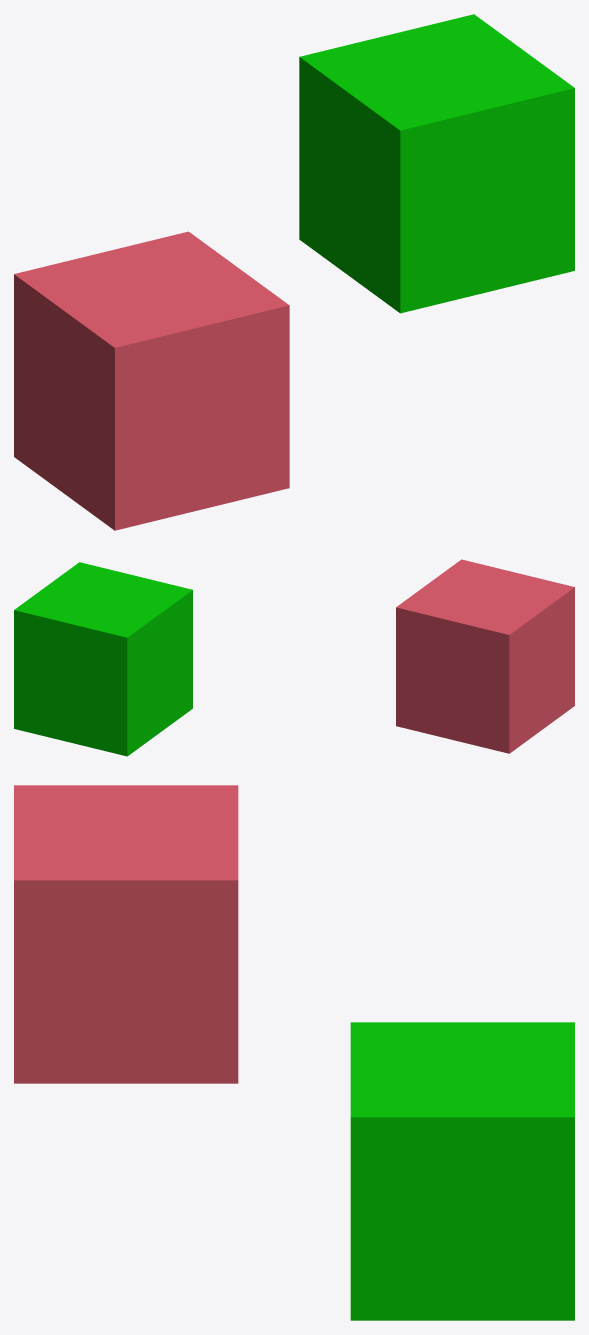
3 renders of one model, top to bottom at view 1: azimuth 30°, elevation 25°; view 2: azimuth 150°, elevation 25°; view 3: azimuth 270°, elevation 25°, orthographic. The views are drawn at different scales.
Parts seen in each view (by area): view 1: Cube, Cube_001; view 2: Cube, Cube_001; view 3: Cube, Cube_001.
Part boxes in pixels (x1=…): Cube: x1=14, y1=231, x2=289, y2=530; Cube_001: x1=299, y1=14, x2=574, y2=313; Cube: x1=396, y1=559, x2=574, y2=753; Cube_001: x1=14, y1=562, x2=192, y2=756; Cube: x1=14, y1=785, x2=238, y2=1083; Cube_001: x1=350, y1=1022, x2=574, y2=1320.
Bounding box in the file's own units: 7 × 5 × 2.
